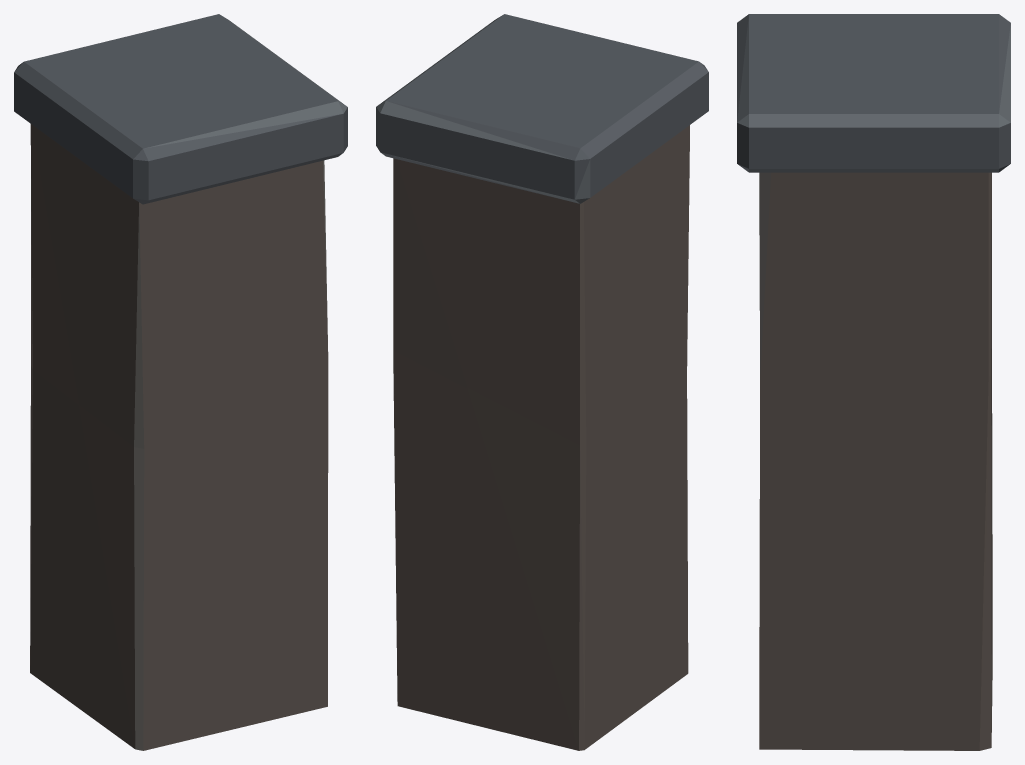
Rendered from MCastle_MasonryPillar_01.FBX.
3 views of the same model, side by side, from view 1: azimuth 30°, elevation 25°; view 2: azimuth 150°, elevation 25°; view 3: azimuth 270°, elevation 25° (orthographic). The views are drawn at different scales.
Visible parts, largest first — view 1: MCastle_MasonryPillar_01_LOD0; view 2: MCastle_MasonryPillar_01_LOD0; view 3: MCastle_MasonryPillar_01_LOD0.
Part boxes in pixels (left/top/right/bottom): MCastle_MasonryPillar_01_LOD0: left=14, top=14, right=347, bottom=750; MCastle_MasonryPillar_01_LOD0: left=376, top=14, right=708, bottom=750; MCastle_MasonryPillar_01_LOD0: left=737, top=14, right=1010, bottom=750.
Size of what is drawn, in the model's own units: 1.67 by 4.53 by 1.76.
